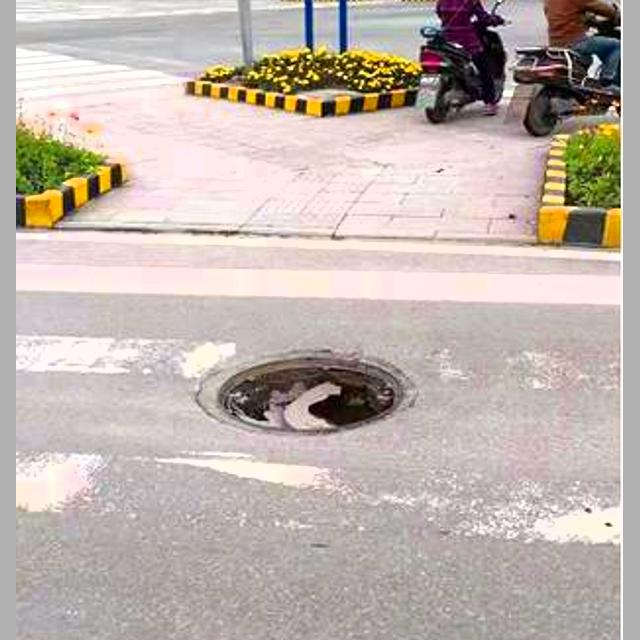broke: (175, 320, 432, 462)
